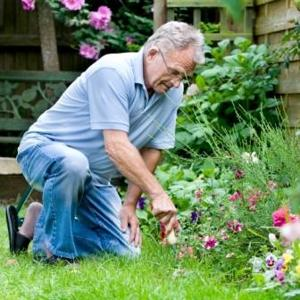person: (17, 20, 209, 264)
